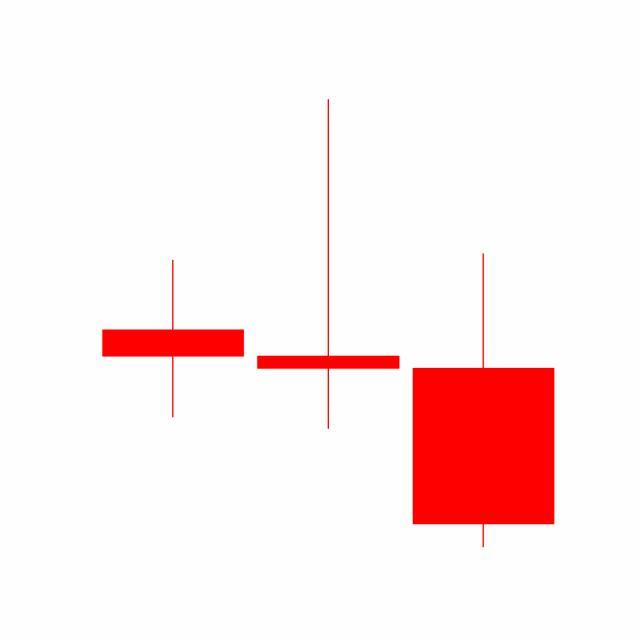Spinning Top: (250, 96, 407, 433)
